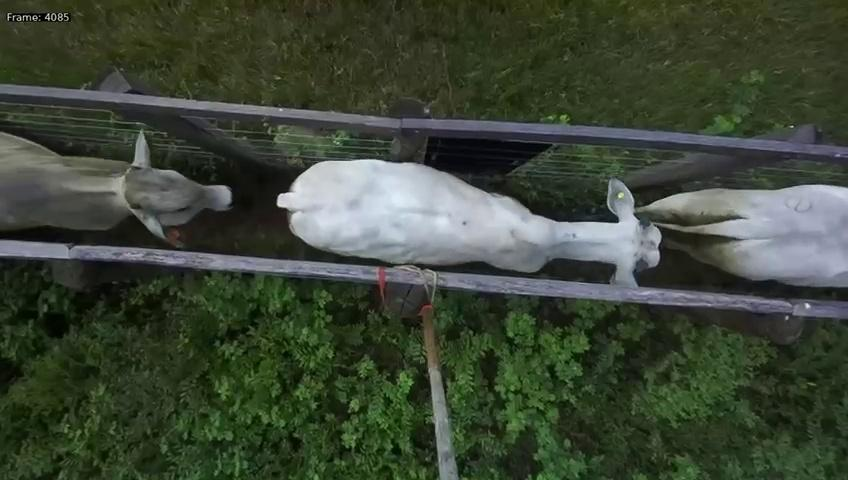cattle: (272, 147, 668, 295), (0, 112, 239, 252)
